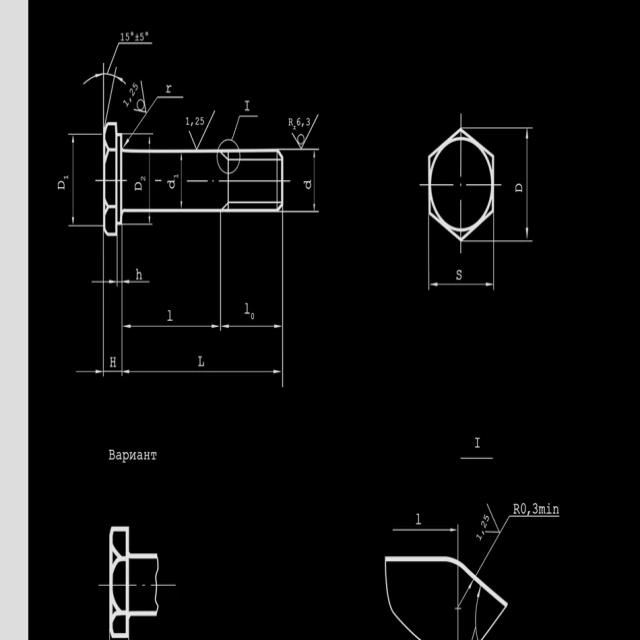marking_line: (124, 368, 281, 374), (124, 322, 219, 331), (525, 130, 530, 240), (71, 136, 77, 226), (147, 137, 153, 226), (223, 323, 280, 332), (431, 282, 493, 289), (392, 528, 457, 533), (179, 155, 184, 208), (75, 367, 102, 376), (313, 150, 317, 210), (124, 279, 154, 286), (91, 278, 117, 286)
numeric: (473, 512, 491, 548), (120, 82, 139, 107), (120, 29, 149, 43), (181, 113, 204, 129), (295, 115, 311, 131)
special_symbol: (84, 68, 125, 122), (221, 91, 263, 143), (149, 93, 185, 112), (290, 129, 316, 149), (189, 131, 209, 149)
